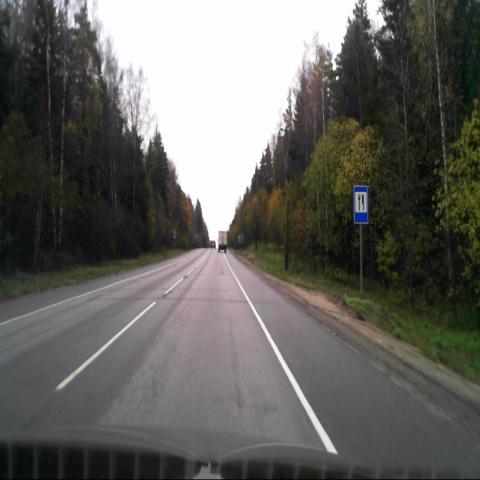7_7: (354, 186, 368, 224)
